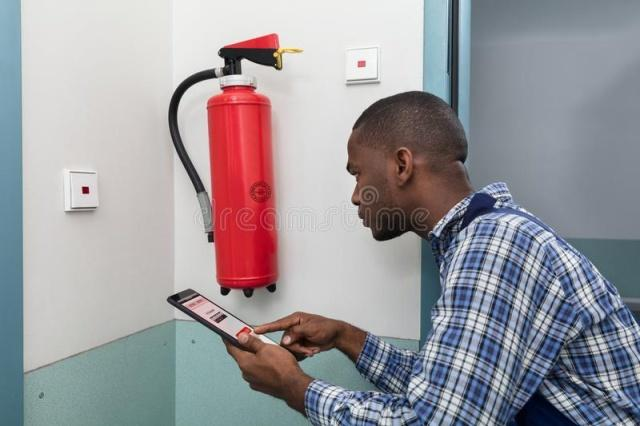APAR: (204, 33, 284, 297)
